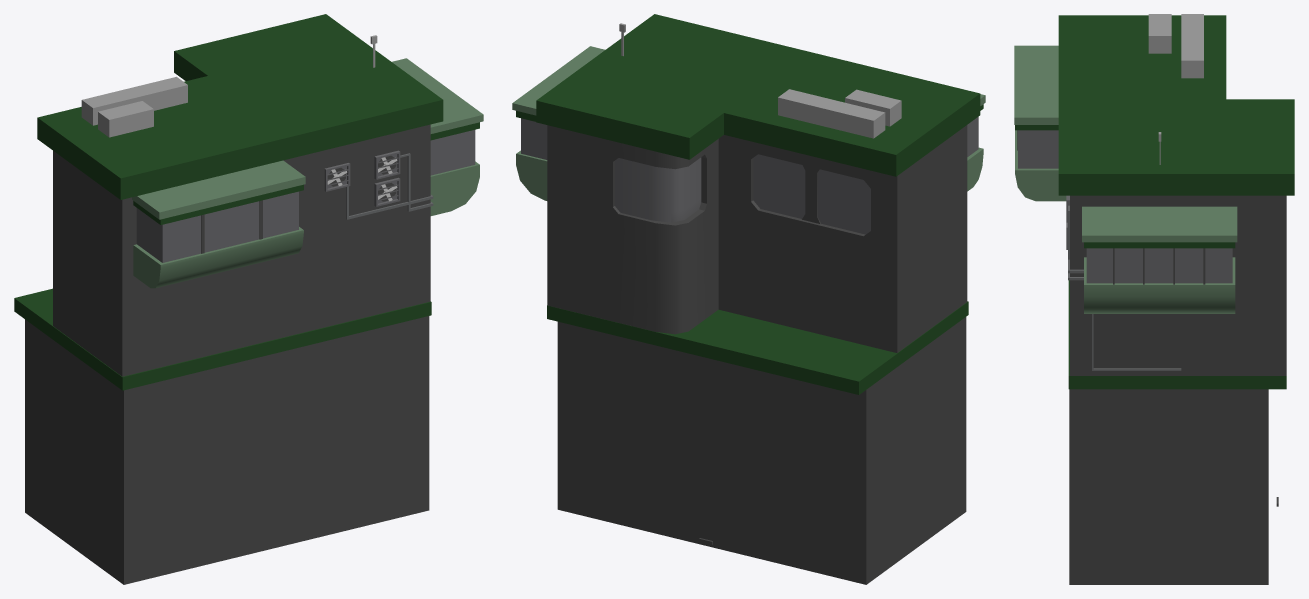
File: NorthWest_House_2076.fbx
3 renders of one model, left to right at view 1: azimuth 30°, elevation 25°; view 2: azimuth 150°, elevation 25°; view 3: azimuth 270°, elevation 25°, orthographic.
Parts seen in each view (by area): view 1: NorthWest_House_2076; view 2: NorthWest_House_2076; view 3: NorthWest_House_2076.
Boxes of the visible parts, x1=… form: NorthWest_House_2076: x1=14, y1=14, x2=483, y2=584; NorthWest_House_2076: x1=512, y1=14, x2=985, y2=584; NorthWest_House_2076: x1=1014, y1=14, x2=1294, y2=584.
Bounding box in the file's own units: 45.23 × 51.19 × 29.11.
